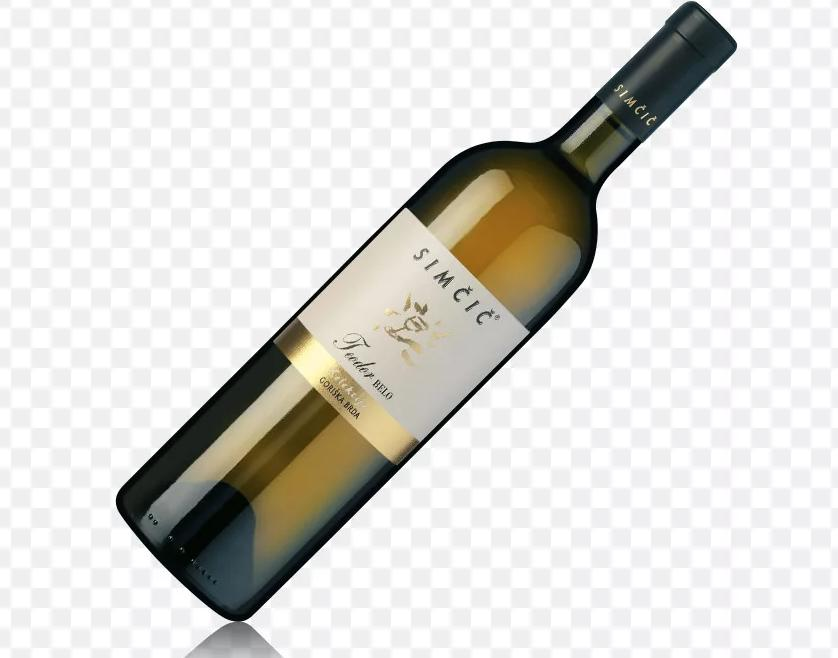wine bottle: (116, 0, 740, 624)
wine label: (273, 206, 532, 469)
